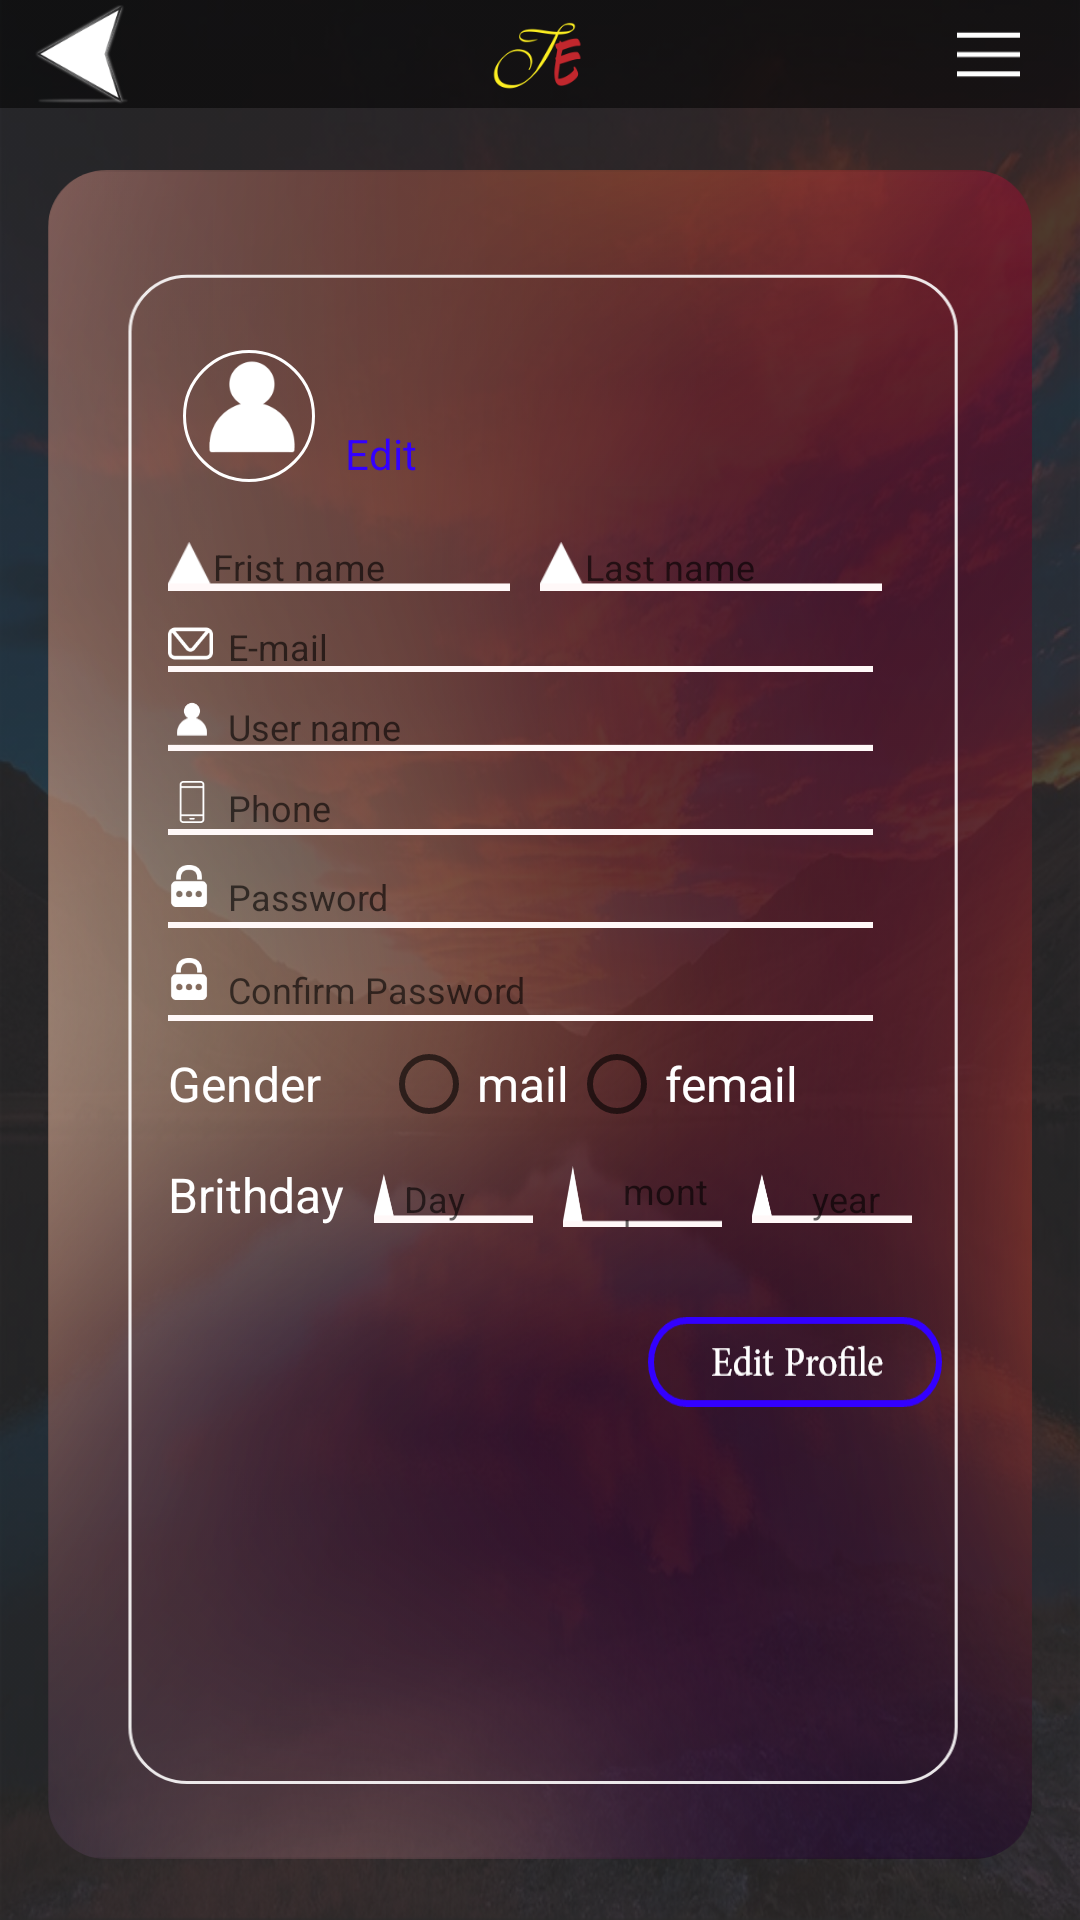

Icon bounding boxes for this 1080px x 1920px phone screenshot, format (x1, y1, x2, y2):
back: (37, 6, 126, 103)
menu: (957, 32, 1020, 77)
profile: (183, 350, 315, 482)
